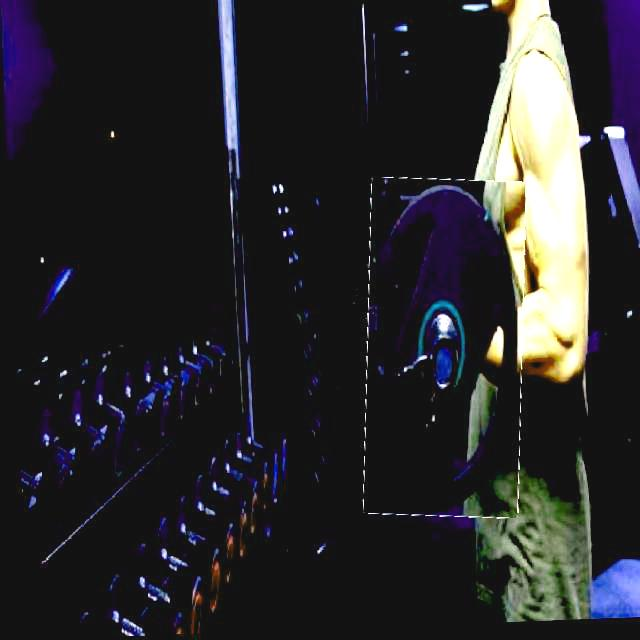barbell: (354, 180, 530, 525)
